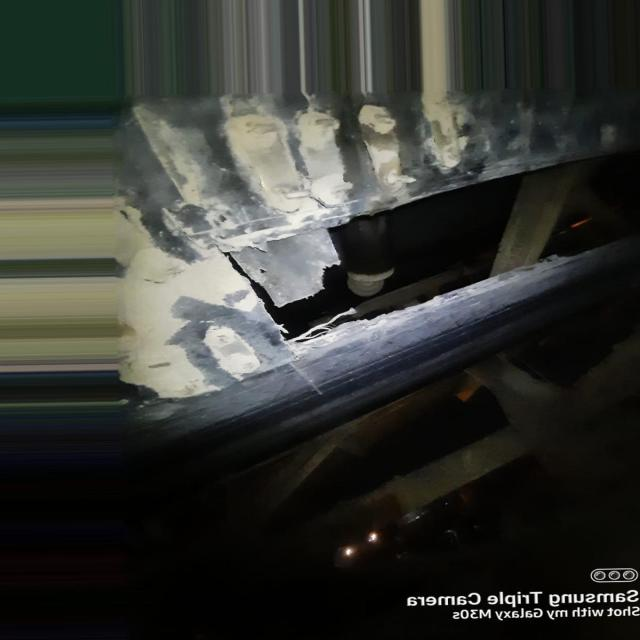Hole: (222, 155, 638, 341)
